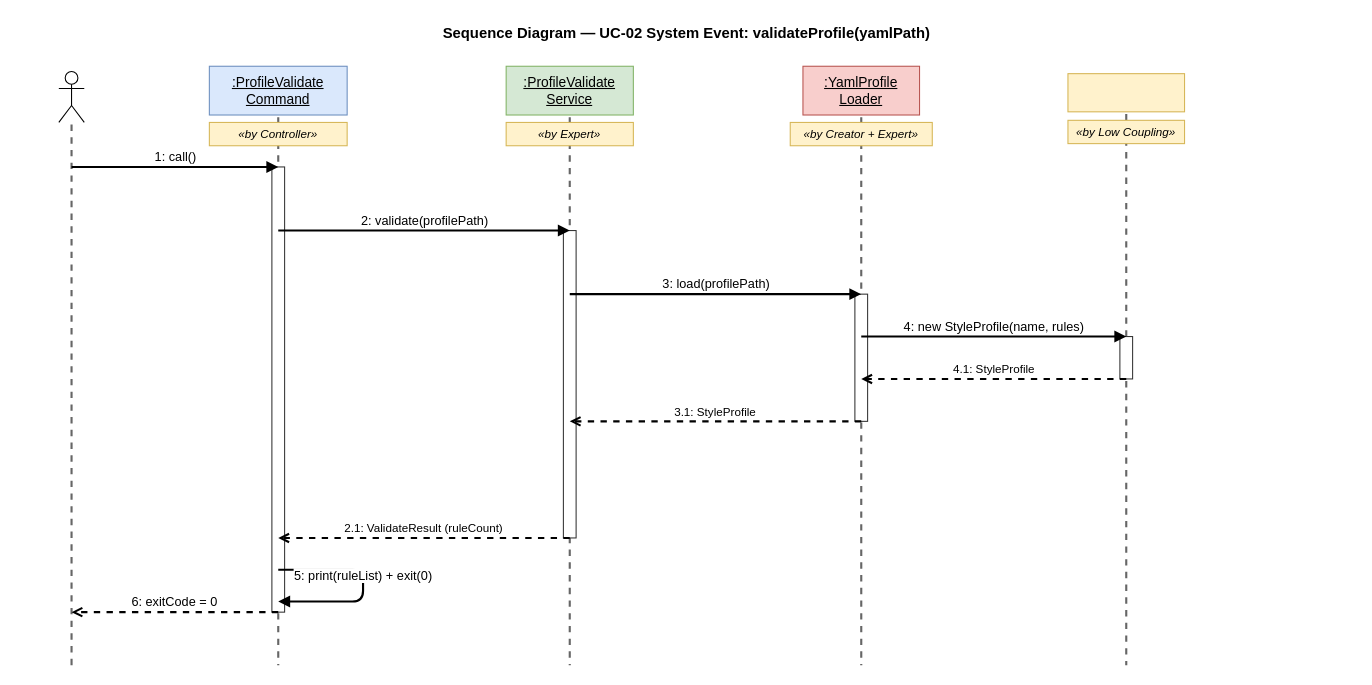
The diagram is 1372 pixels wide and 685 high, and some of its shapes have lost their labels. The centre of each missing label's shape, as x and y in pixels:
":StyleProfile" belongs at [1126,92].
"Developer" belongs at [71,96].
